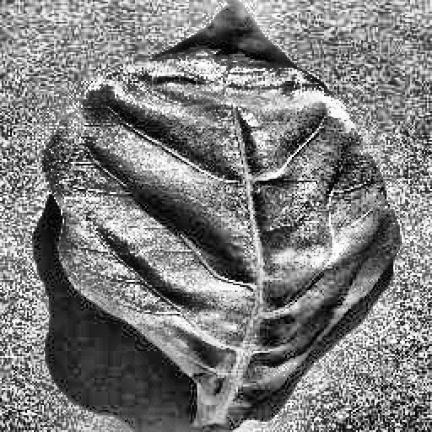leaf: (44, 0, 398, 425)
